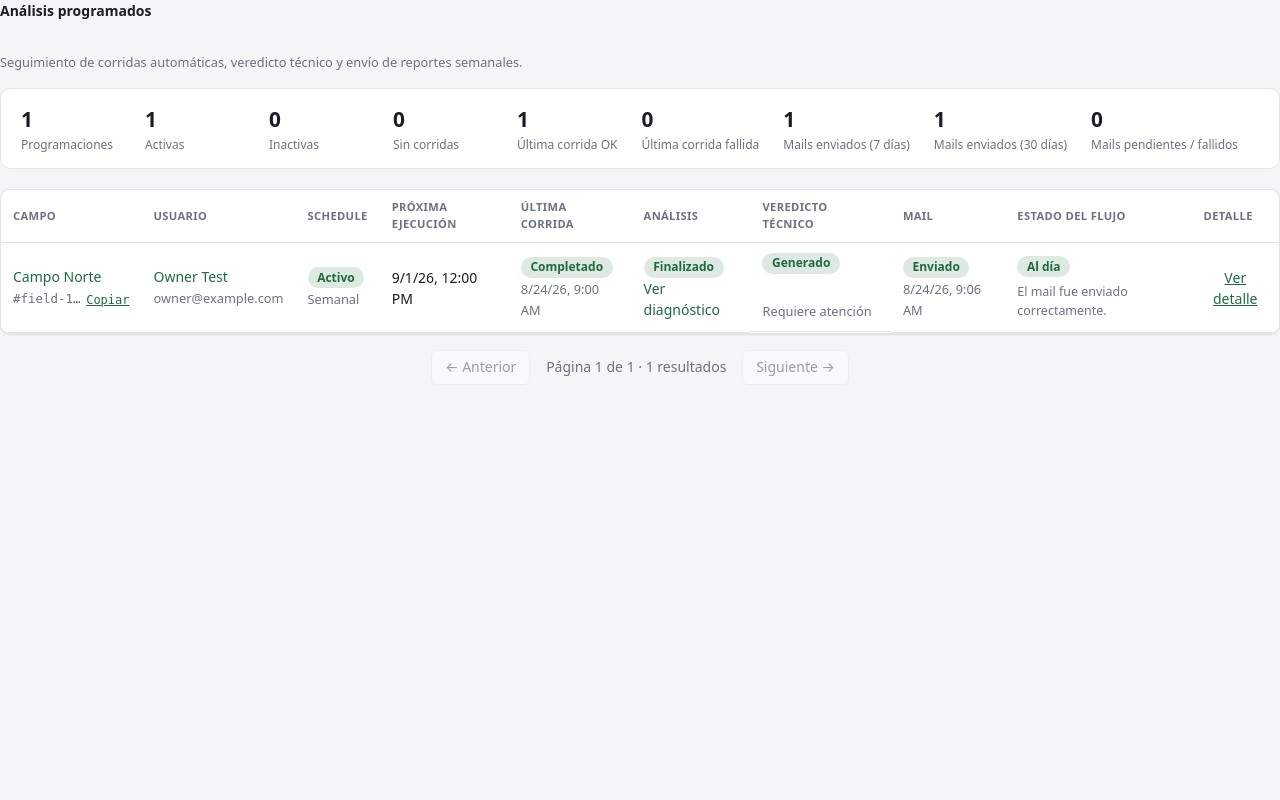
it: ScheduledAnalysisComponent (PR 13B) › renderiza trend improving → En mejora
The width and height of the screenshot is (1280, 800).
Click the button with class "detail-toggle".
click(1235, 288)  # box [1204, 266, 1267, 308]
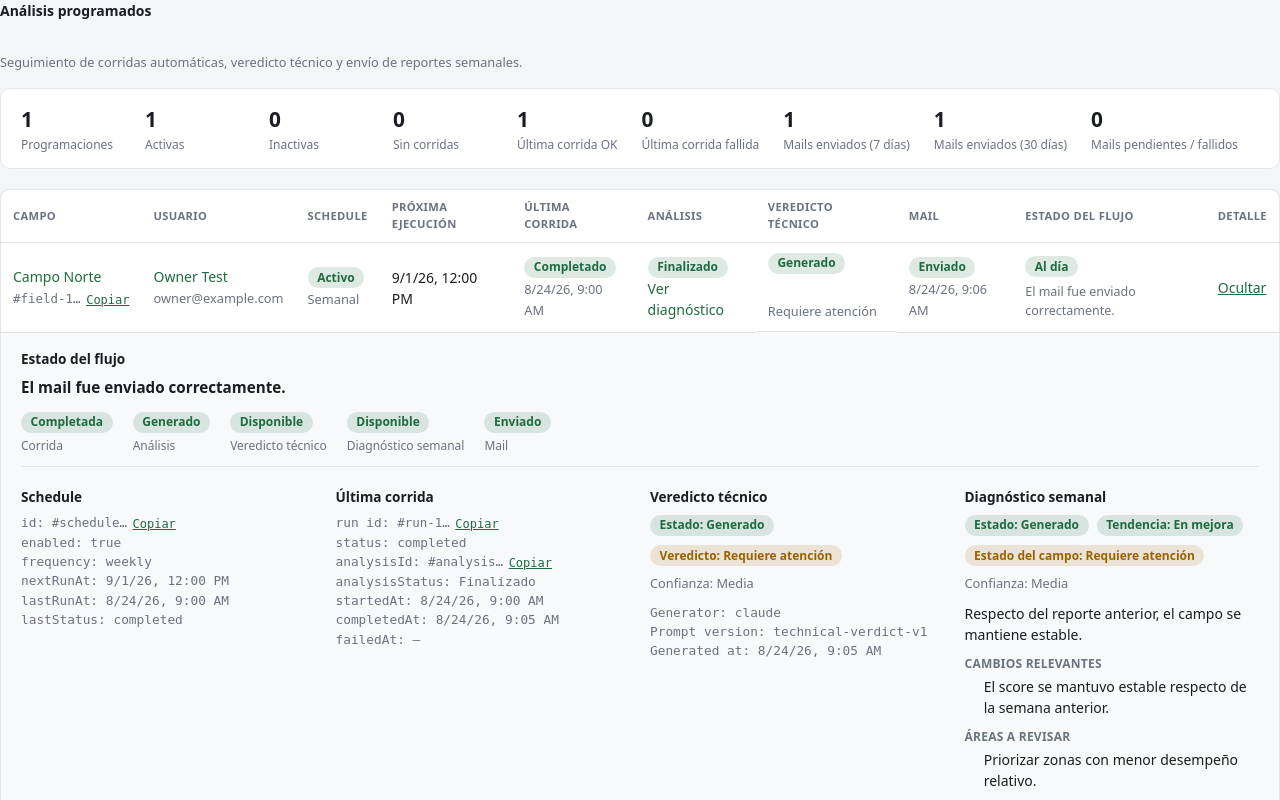
Expected: the text "Tendencia: En mejora" is shown, [1097, 515, 1243, 536]
